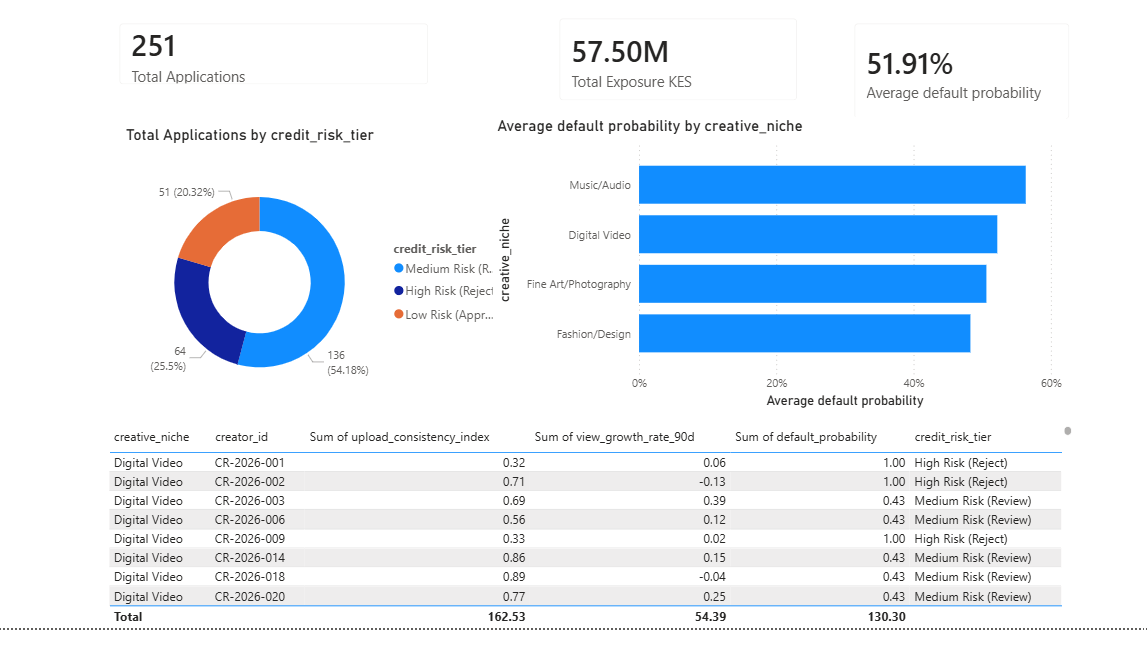

This screenshot's page, from the dashboard's own definition file:
{"tool":"powerbi","page":{"name":"Page 1","canvas":[1280,720],"ordinal":0},"visuals":[{"type":"cardVisual","fields":{"Data":["final_scored_creatives.Total Applications"]},"box":[126.2,0,373.2,101.5],"z":0},{"type":"cardVisual","fields":{"Data":["final_scored_creatives.Total Exposure KES"]},"box":[520.1,0,295,124.9],"z":1},{"type":"cardVisual","fields":{"Data":["final_scored_creatives.Average default probability"]},"box":[837.1,0,270.3,140],"z":2},{"type":"donutChart","fields":{"Category":["final_scored_creatives.credit_risk_tier"],"Y":["final_scored_creatives.Total Applications"]},"box":[126.2,157.8,429.5,325.2],"z":3},{"type":"barChart","fields":{"Category":["final_scored_creatives.creative_niche"],"Y":["final_scored_creatives.Average default probability"]},"box":[588.7,157.8,537.9,325.2],"z":4},{"type":"tableEx","fields":{"Values":["final_scored_creatives.creative_niche","final_scored_creatives.creator_id","Sum(final_scored_creatives.upload_consistency_index)","Sum(final_scored_creatives.view_growth_rate_90d)","Sum(final_scored_creatives.default_probability)","final_scored_creatives.credit_risk_tier"]},"box":[126.2,492.6,981.1,227.8],"z":5}]}

Visuals, with their boxes in screenshot pixels (x1, y1, x2, y2), scaled from the page's 1280x720 canvas onto the 1147x650 screenshot:
cardVisual - final_scored_creatives.Total Applications: [left=113, top=0, right=448, bottom=92]
cardVisual - final_scored_creatives.Total Exposure KES: [left=466, top=0, right=730, bottom=113]
cardVisual - final_scored_creatives.Average default probability: [left=750, top=0, right=992, bottom=126]
donutChart - final_scored_creatives.credit_risk_tier x final_scored_creatives.Total Applications: [left=113, top=142, right=498, bottom=436]
barChart - final_scored_creatives.creative_niche x final_scored_creatives.Average default probability: [left=528, top=142, right=1010, bottom=436]
tableEx - final_scored_creatives.creative_niche x final_scored_creatives.creator_id: [left=113, top=445, right=992, bottom=649]
